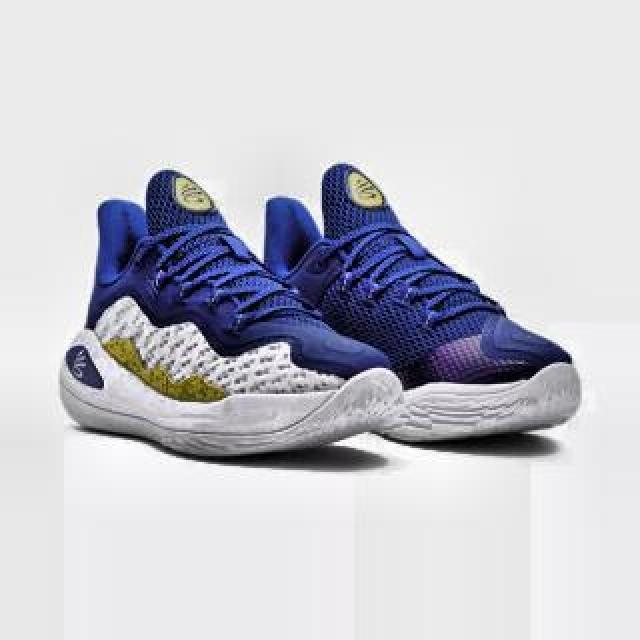shoe: (59, 168, 403, 460), (252, 162, 580, 440)
